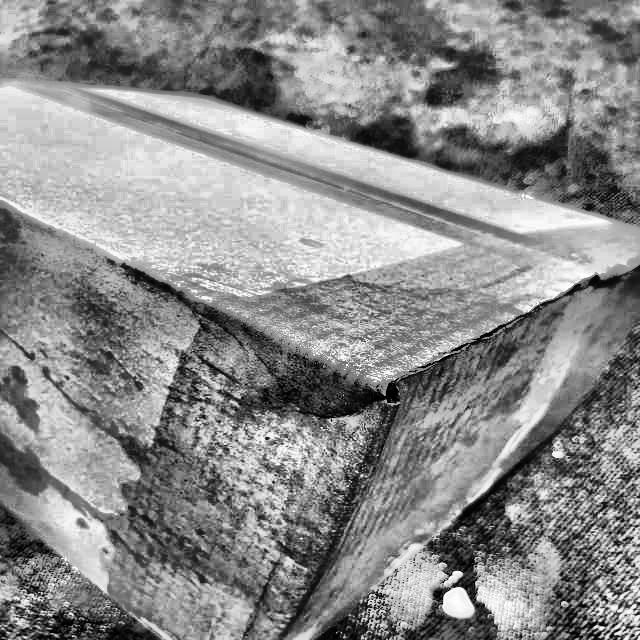box: (0, 60, 640, 633)
wet: (90, 212, 622, 634)
